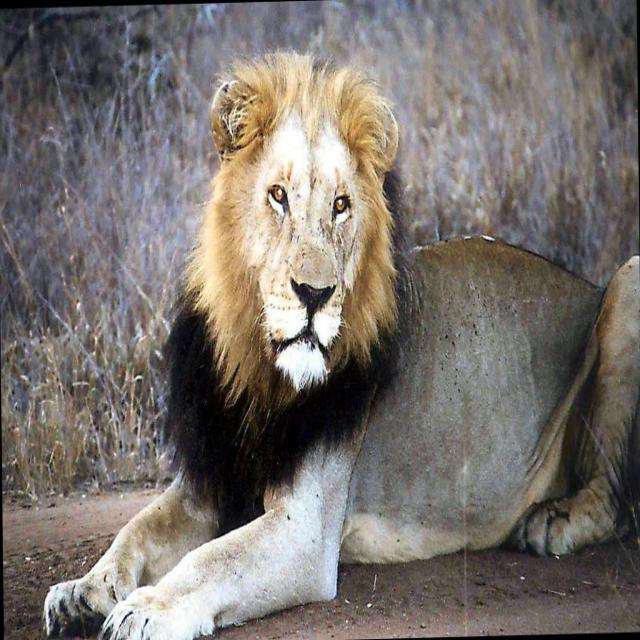Lion: (35, 43, 640, 639)
